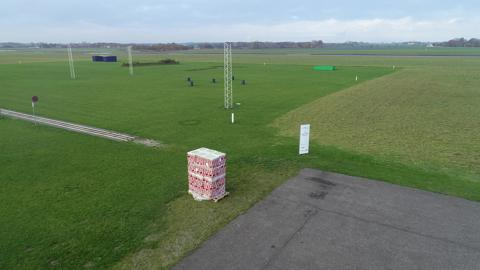RockwoolPallet: (187, 147, 227, 201)
